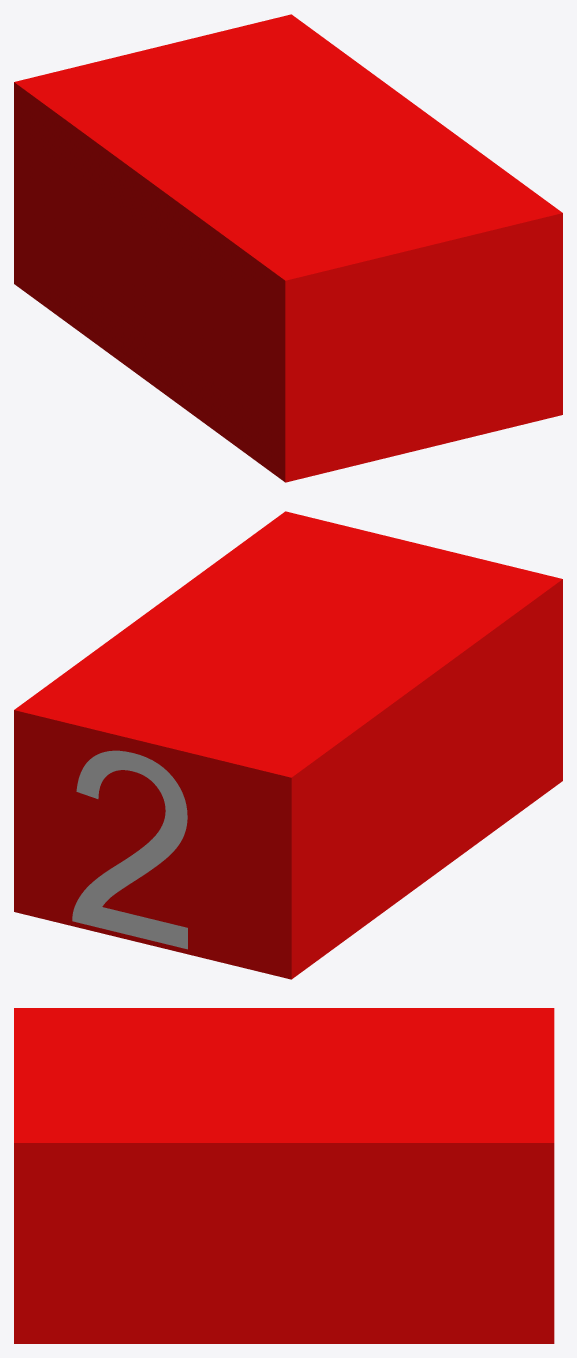
File: car02.glb
The picture shows the model from 3 angles, top to bottom: view 1: azimuth 30°, elevation 25°; view 2: azimuth 150°, elevation 25°; view 3: azimuth 270°, elevation 25°; orthographic projection.
Visible parts, largest first — view 1: Box001; view 2: Box001, 2; view 3: Box001.
Boxes of the visible parts, x1,y1,x2,y2 form: Box001: (14, 14, 562, 482); Box001: (14, 511, 562, 979); 2: (72, 750, 187, 949); Box001: (14, 1008, 554, 1343).
Size of the model in its own units: 17.4 by 12.1 by 29.97.
